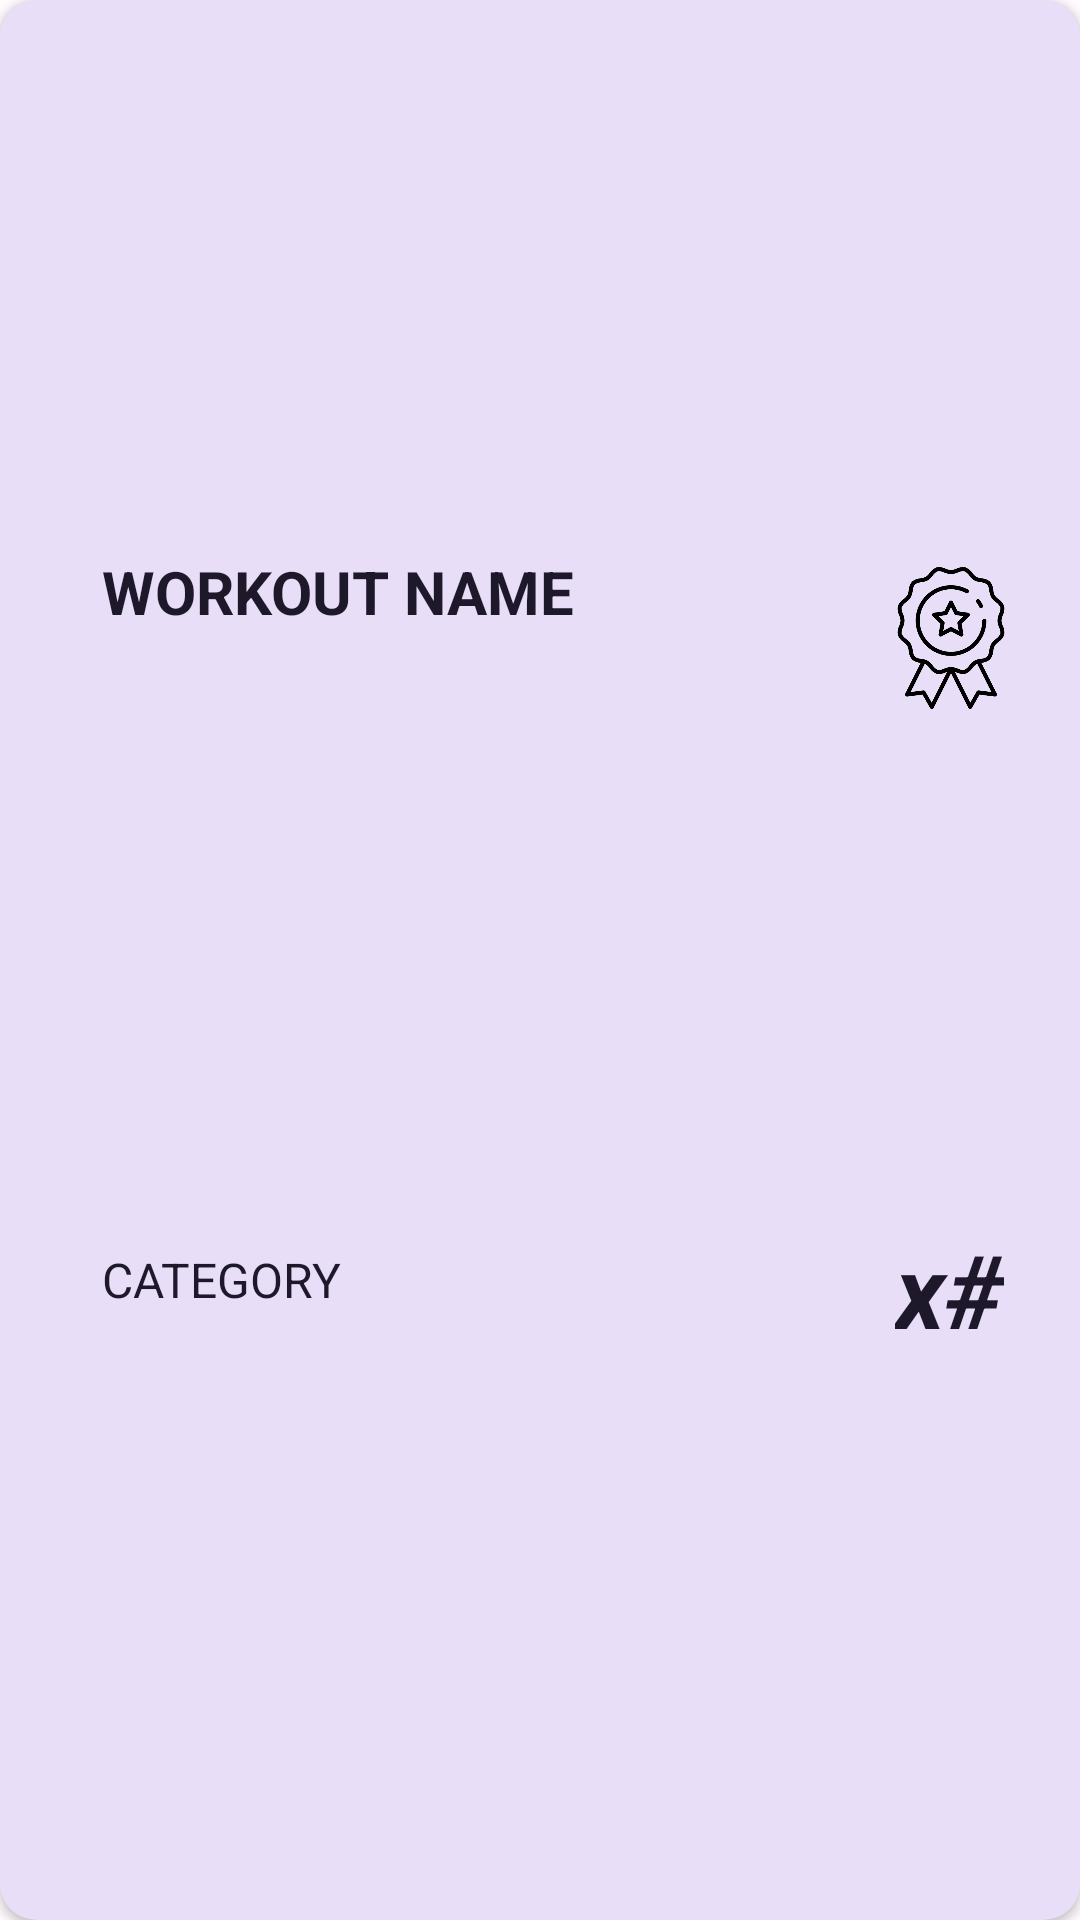

Screen size 1080 × 1920. Icon name, then its center in pixels as [x,y]:
award: [951,638]
